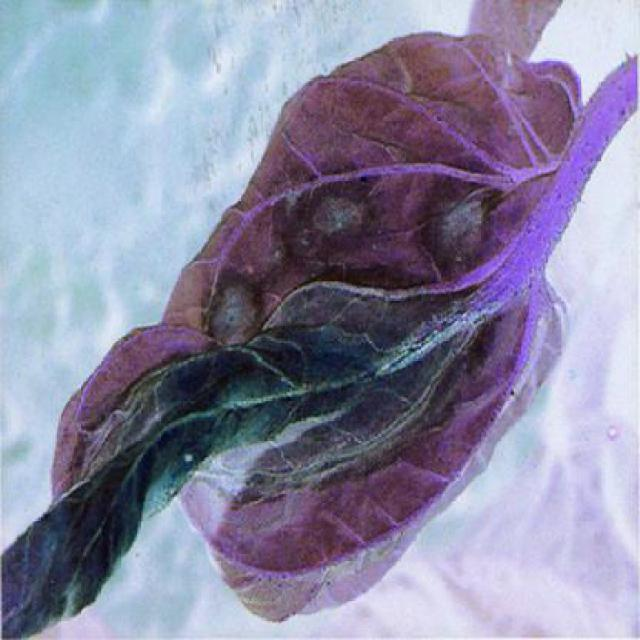Tomato mosaic virus leaf: (9, 37, 589, 617)
